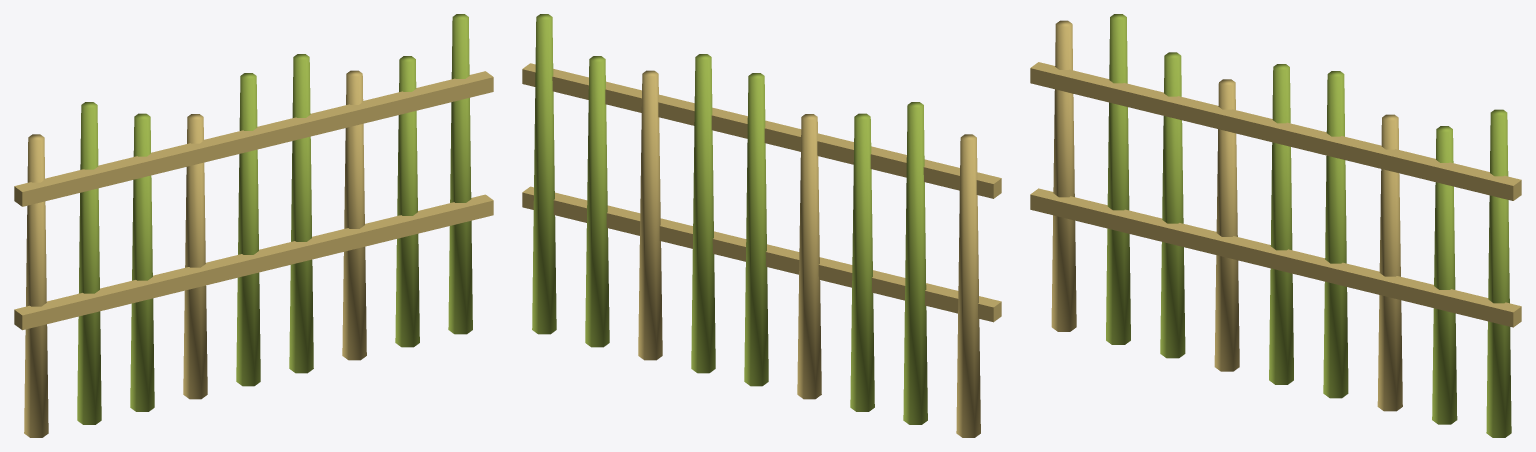
The model's file is prop_pagar_bambu.glb.
3 views of the same model, side by side, from view 1: azimuth 30°, elevation 25°; view 2: azimuth 150°, elevation 25°; view 3: azimuth 330°, elevation 25° (orthographic). The views are drawn at different scales.
Parts seen in each view (by area): view 1: pagar_bambu; view 2: pagar_bambu; view 3: pagar_bambu.
Boxes of the visible parts, left/top/right/bottom form: pagar_bambu: left=14, top=14, right=493, bottom=437; pagar_bambu: left=522, top=14, right=1001, bottom=437; pagar_bambu: left=1030, top=14, right=1521, bottom=437.
Size of the model in its own units: 2 by 1.28 by 0.115.
